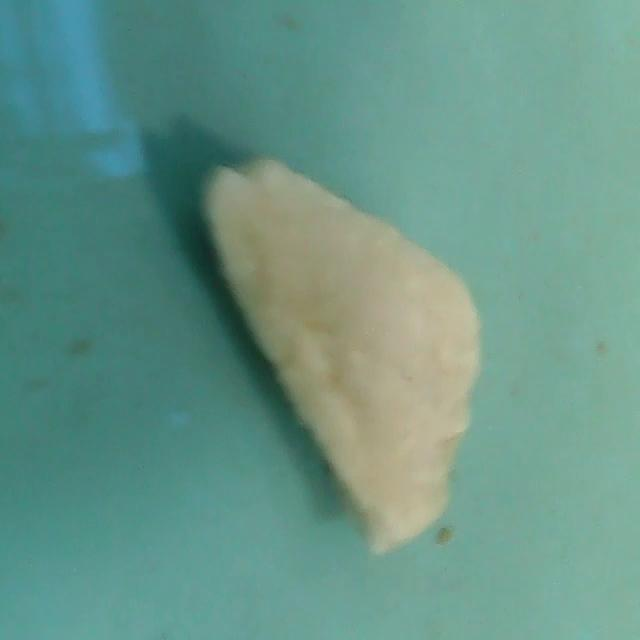rock: (184, 145, 484, 561)
